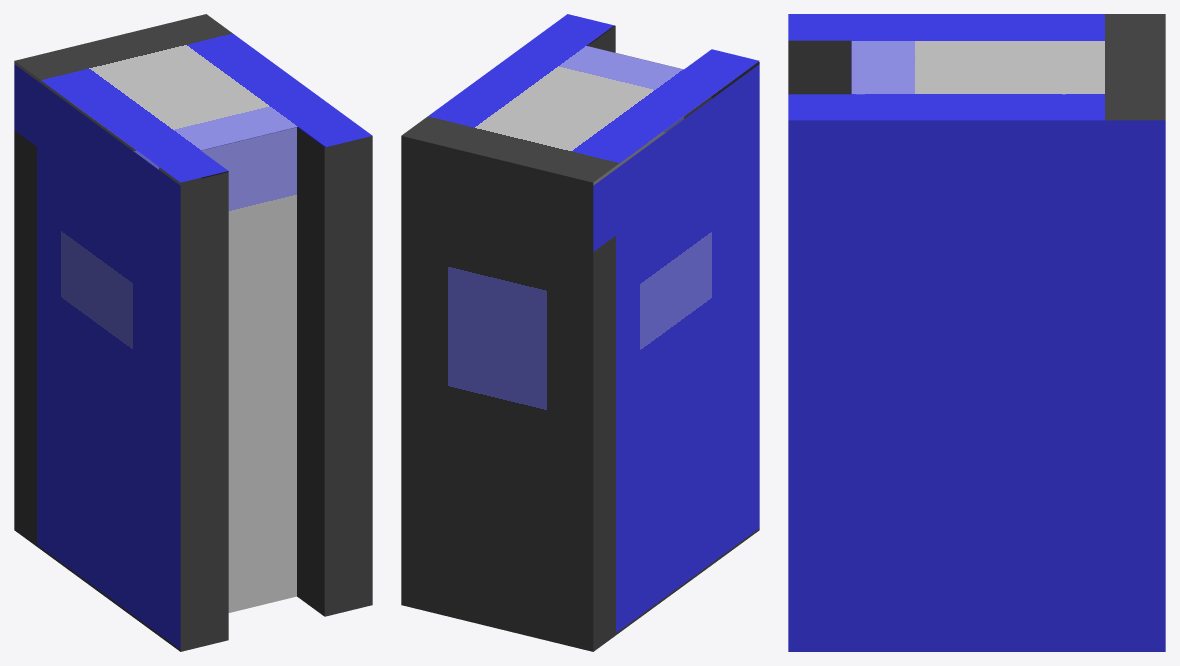
Rendered from book_0x282_14.obj.
3 views of the same model, side by side, from view 1: azimuth 30°, elevation 25°; view 2: azimuth 150°, elevation 25°; view 3: azimuth 270°, elevation 25° (orthographic). The views are drawn at different scales.
Visible parts, largest first — view 1: Cube.001; view 2: Cube.001; view 3: Cube.001.
Part boxes in pixels (x1,y1,x2,y2): Cube.001: (14, 14, 372, 651); Cube.001: (401, 14, 759, 651); Cube.001: (788, 14, 1165, 651).
Size of the model in its own units: 0.25 by 0.5833 by 0.375.
